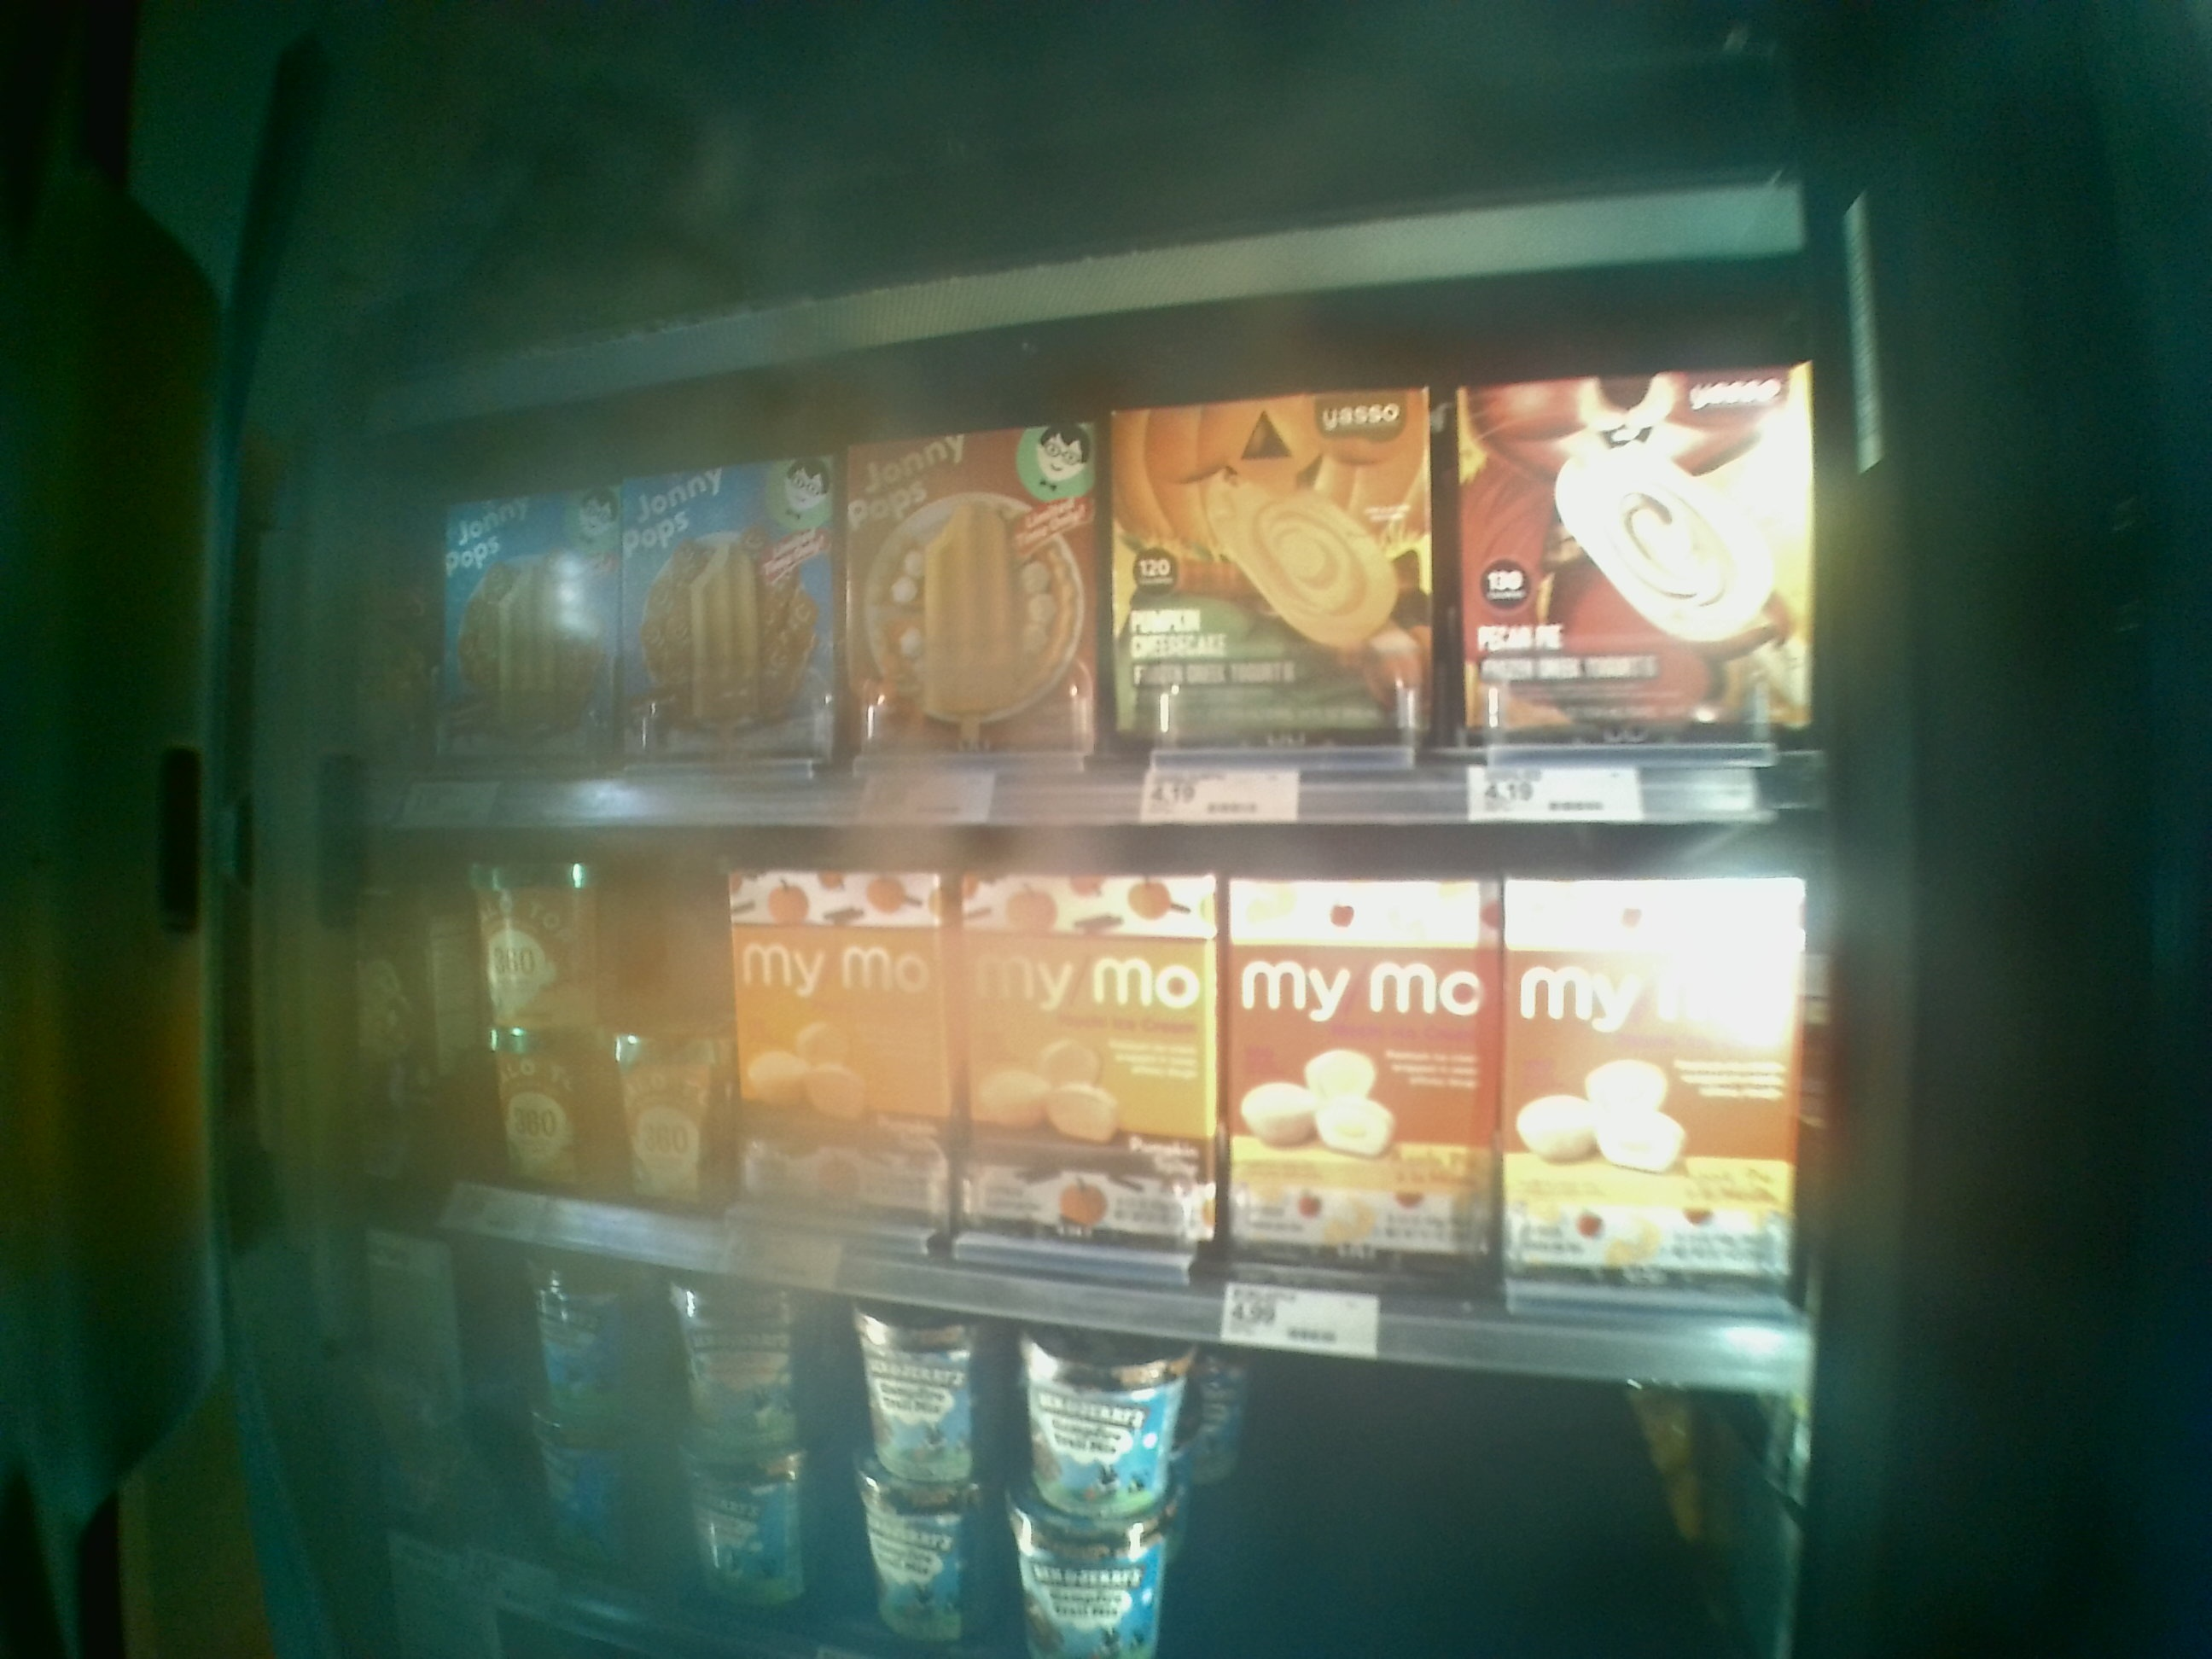shelf: (355, 816, 1827, 1356), (354, 406, 1820, 826)
